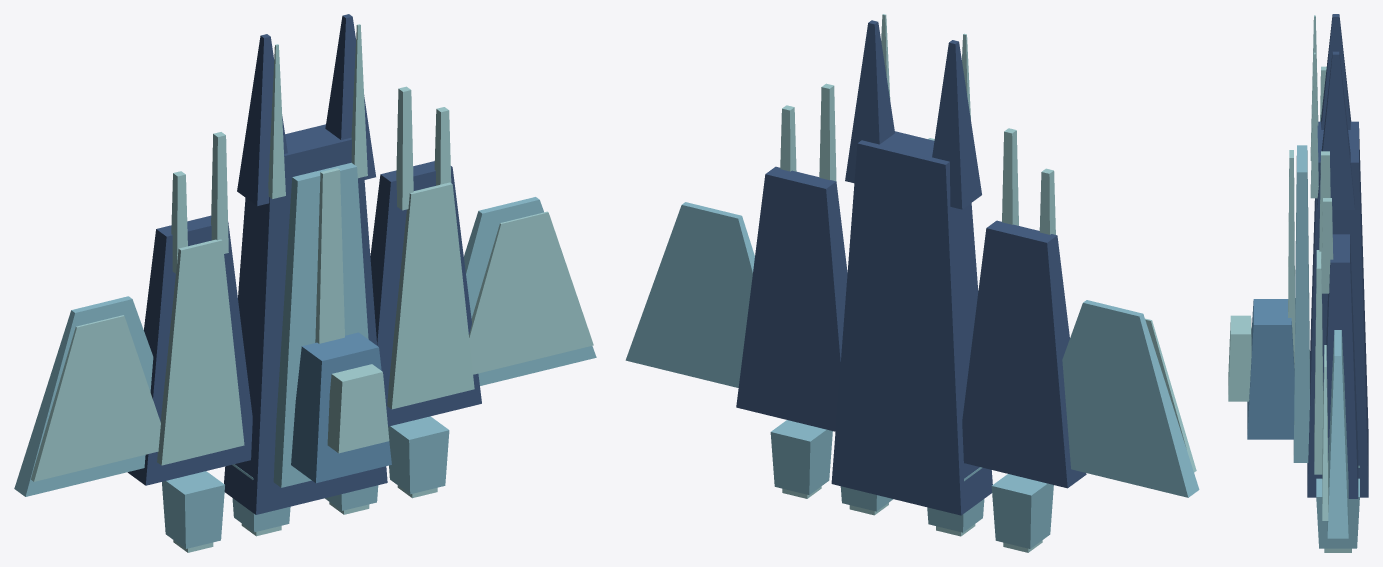
Rendered from ship_leviathan_frost.glb.
3 views of the same model, side by side, from view 1: azimuth 30°, elevation 25°; view 2: azimuth 150°, elevation 25°; view 3: azimuth 270°, elevation 25° (orthographic). The views are drawn at different scales.
Visible parts, largest first — view 1: BattleshipHull; view 2: BattleshipHull; view 3: BattleshipHull.
Boxes of the visible parts, x1,y1,x2,y2 form: BattleshipHull: (14,14,596,552); BattleshipHull: (625,14,1199,552); BattleshipHull: (1228,14,1368,552).
Bounding box in the file's own units: 5.86 × 4.82 × 1.33.
